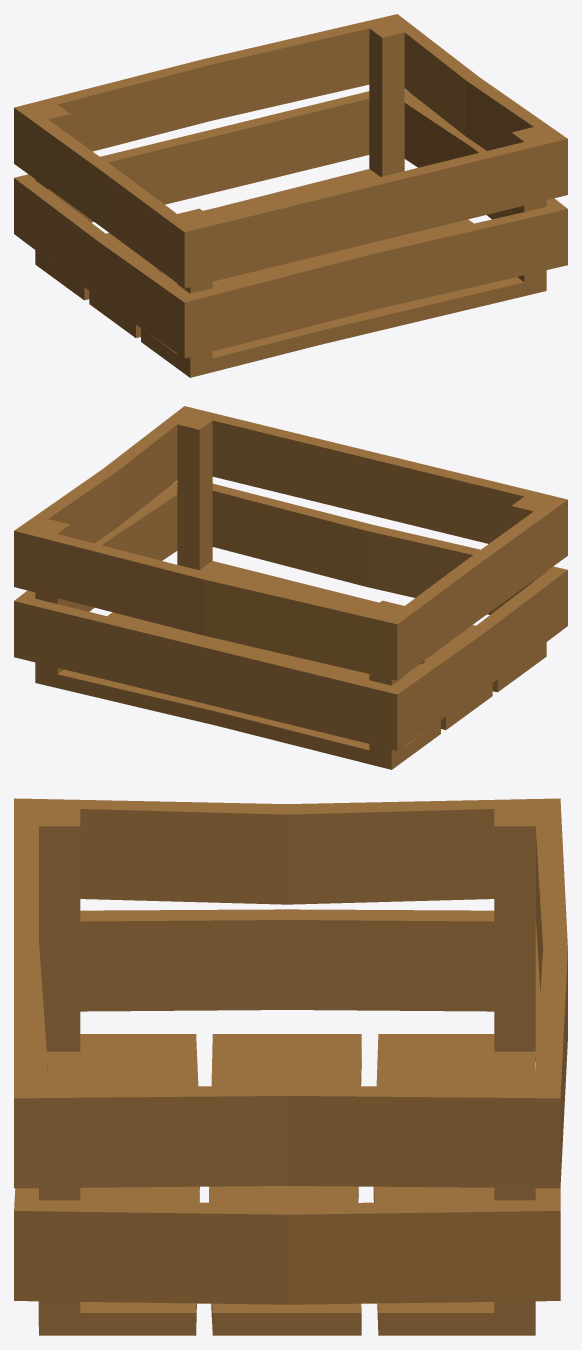
File: egypt-crate.glb
The picture shows the model from 3 angles, top to bottom: view 1: azimuth 30°, elevation 25°; view 2: azimuth 150°, elevation 25°; view 3: azimuth 270°, elevation 25°; orthographic projection. The views are drawn at different scales.
Visible parts, largest first — view 1: egypt-crate; view 2: egypt-crate; view 3: egypt-crate.
Boxes of the visible parts, bbox=[...] form: egypt-crate: bbox=[14, 14, 567, 377]; egypt-crate: bbox=[14, 406, 567, 769]; egypt-crate: bbox=[14, 798, 567, 1335].
Bounding box in the file's own units: 0.8725 × 0.33 × 0.6692.
1 material, 1 textured.
